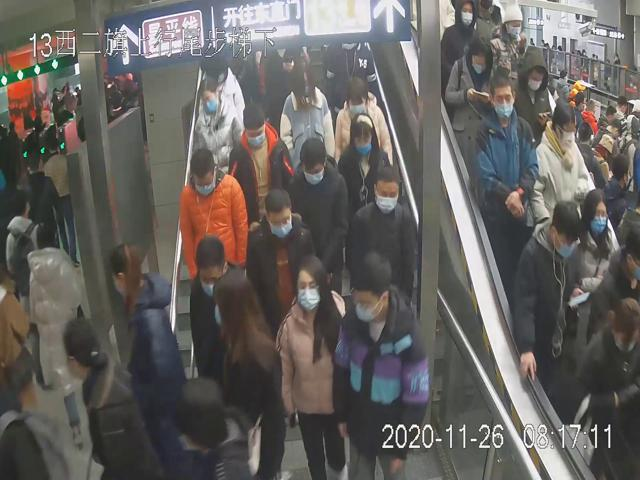person: (330, 250, 427, 476), (272, 253, 352, 480), (511, 200, 590, 387), (474, 72, 538, 248), (348, 165, 420, 320), (285, 134, 352, 290), (178, 147, 248, 284), (248, 184, 314, 326), (189, 234, 244, 398), (227, 100, 295, 216), (529, 99, 587, 230), (335, 111, 394, 216), (333, 78, 396, 169), (279, 64, 335, 166), (191, 76, 245, 170)
